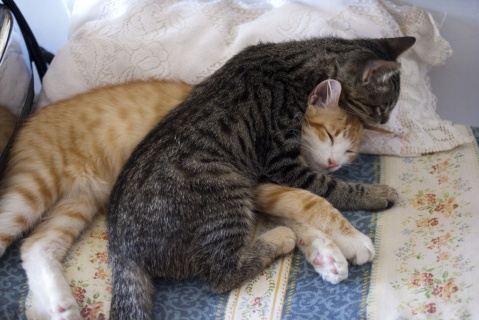Cat: (0, 75, 395, 320), (103, 31, 416, 320)
